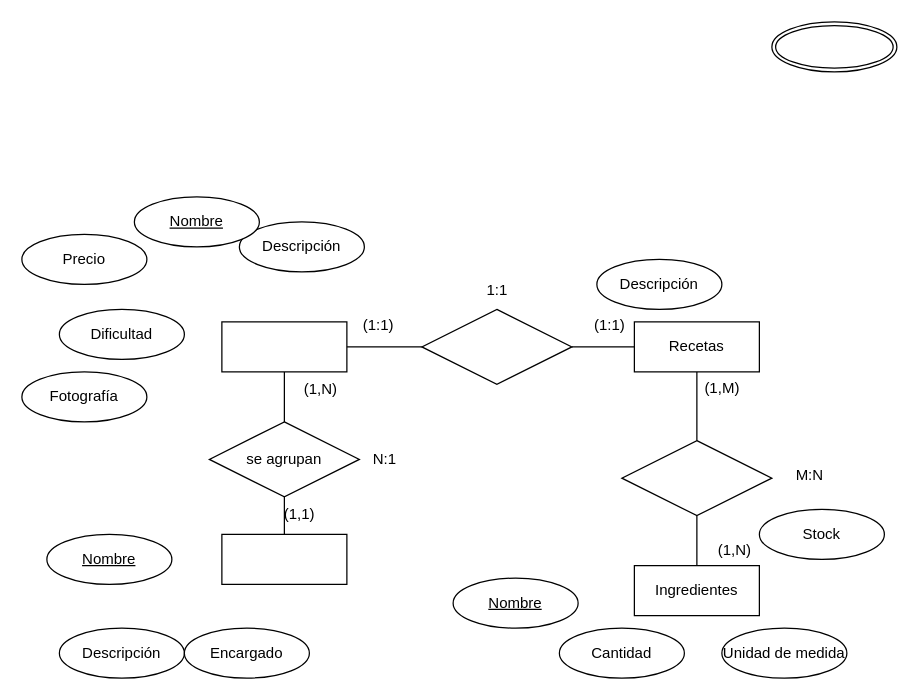
Some shapes in this 919 by 700 pixel diagram are drawn without their labels. The shapes that lost their labels are listed below. From the top down, each one's centre as x and y in pixels, then its label:
(834,46): Attribute
(284,346): Platos
(496,346): elaborados mediante
(696,477): requieren
(284,558): Categorías
